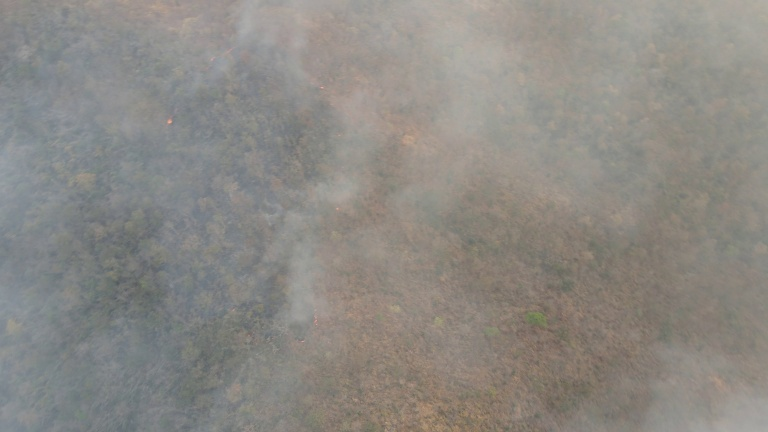fire: (162, 104, 185, 137)
smoke: (1, 1, 356, 431), (360, 1, 768, 202), (546, 319, 768, 432)
